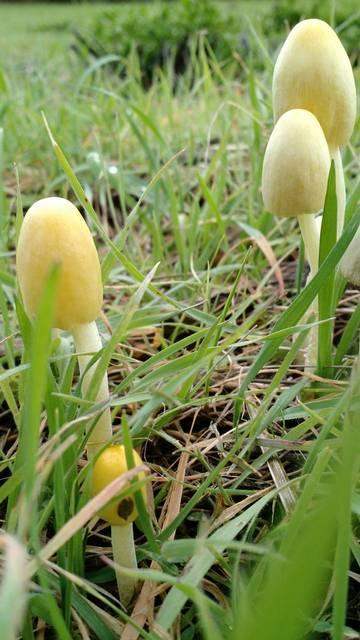edible_mushroom: (14, 195, 113, 460), (256, 11, 360, 256), (87, 443, 152, 607)
